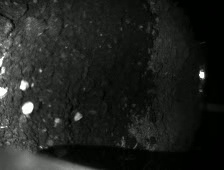corn: (20, 99, 35, 116), (18, 77, 31, 93), (71, 109, 84, 124)
